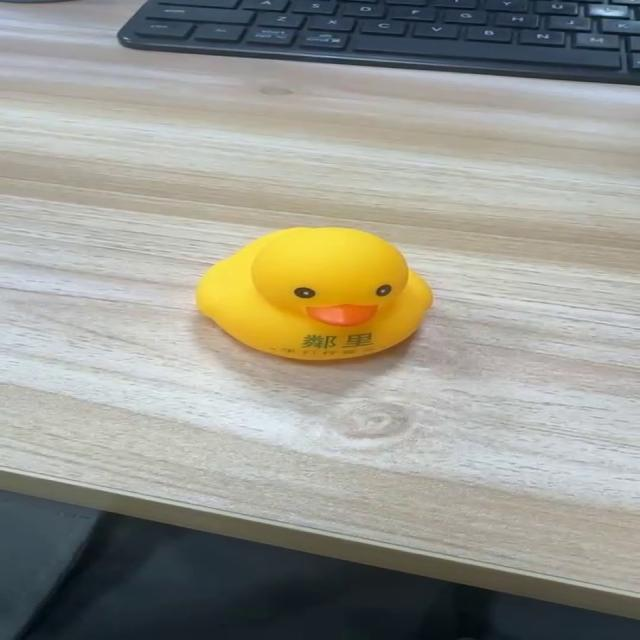yellow_duck: (193, 224, 435, 361)
